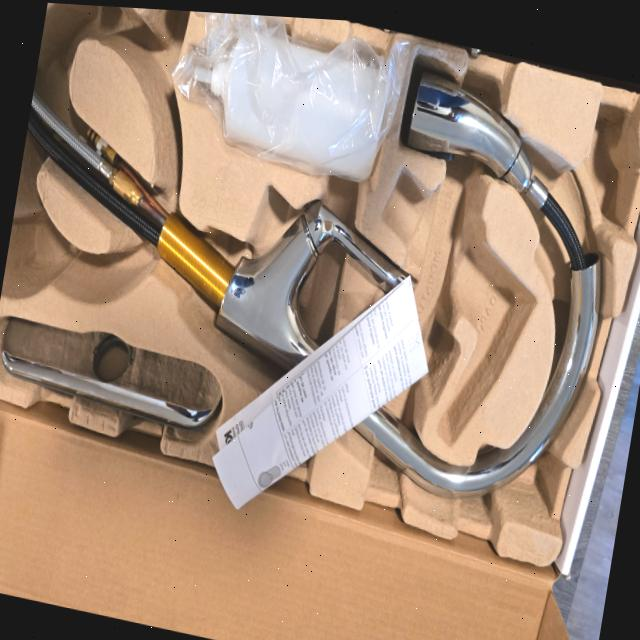1o: (27, 75, 599, 501)
2m: (381, 171, 535, 447)
3: (189, 25, 389, 182)
4: (1, 317, 221, 433)
5m: (10, 215, 65, 292)
6m: (41, 3, 117, 71)
7m: (115, 7, 185, 123)
8: (211, 271, 428, 513)
